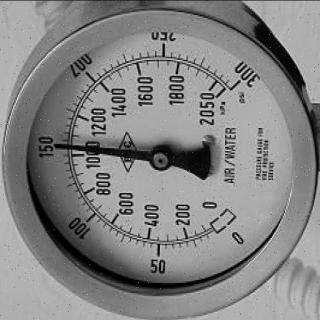gauge: (0, 0, 320, 320), (205, 205, 241, 231), (222, 69, 254, 96), (148, 143, 175, 173), (49, 138, 63, 150)
